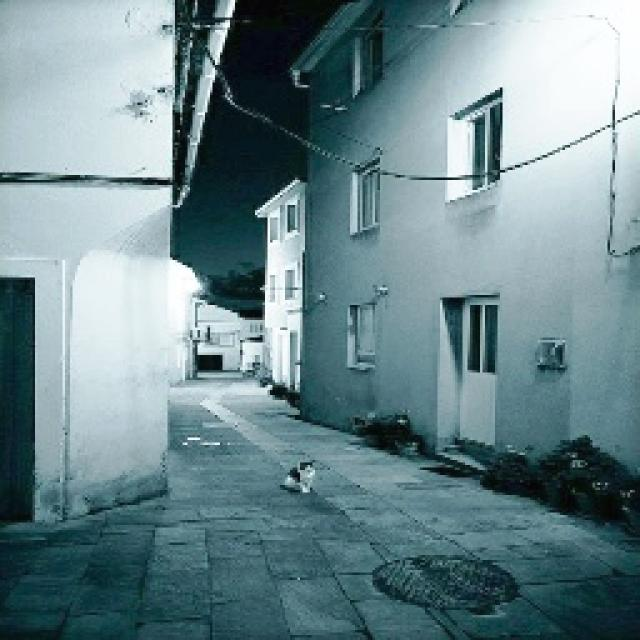cat: (281, 448, 319, 499)
